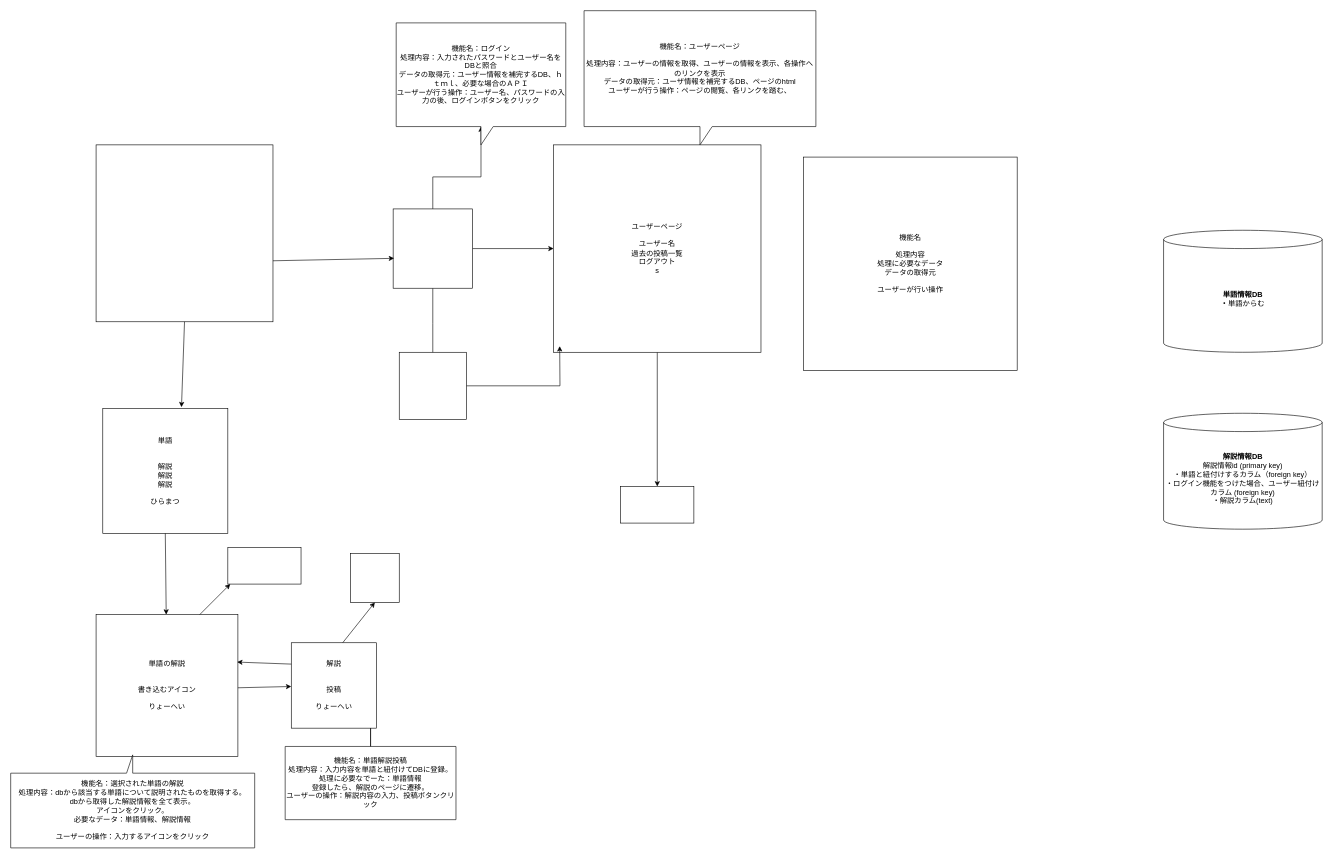
The diagram is 1333 pixels wide and 859 high, and some of its shapes have lost their labels. Here are the shapes that lost their labels. From the top down, the centre of each, then its label:
At (184,233): "ホーム画面 検索窓 単語がずらり ひらまつ".
At (432,248): "ログイン パスワード ユーザー名 ひろみ".
At (432,385): "登録画面 名前 パスワード e-mail twitter,google API".
At (657,504): "ログインした状態".
At (264,565): "dbへ検索".
At (374,577): "dbへ登録".
